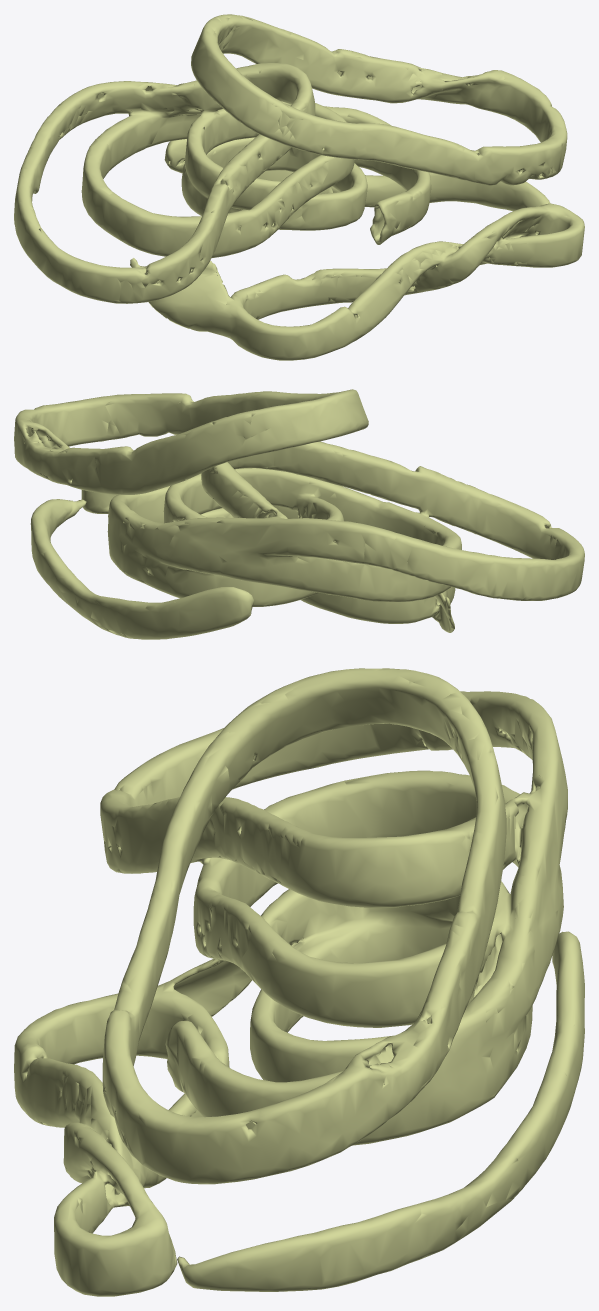
File: liga_pintada.fbx
The picture shows the model from 3 angles, top to bottom: view 1: azimuth 30°, elevation 25°; view 2: azimuth 150°, elevation 25°; view 3: azimuth 270°, elevation 25°; orthographic projection. The views are drawn at different scales.
Visible parts, largest first — view 1: tmpesiinxhy.ply; view 2: tmpesiinxhy.ply; view 3: tmpesiinxhy.ply.
Boxes of the visible parts, box(x1,y1,x2,y2) form: tmpesiinxhy.ply: box(14, 14, 584, 360); tmpesiinxhy.ply: box(14, 389, 584, 639); tmpesiinxhy.ply: box(14, 668, 584, 1296).
Size of the model in its own units: 199 by 91.35 by 111.
